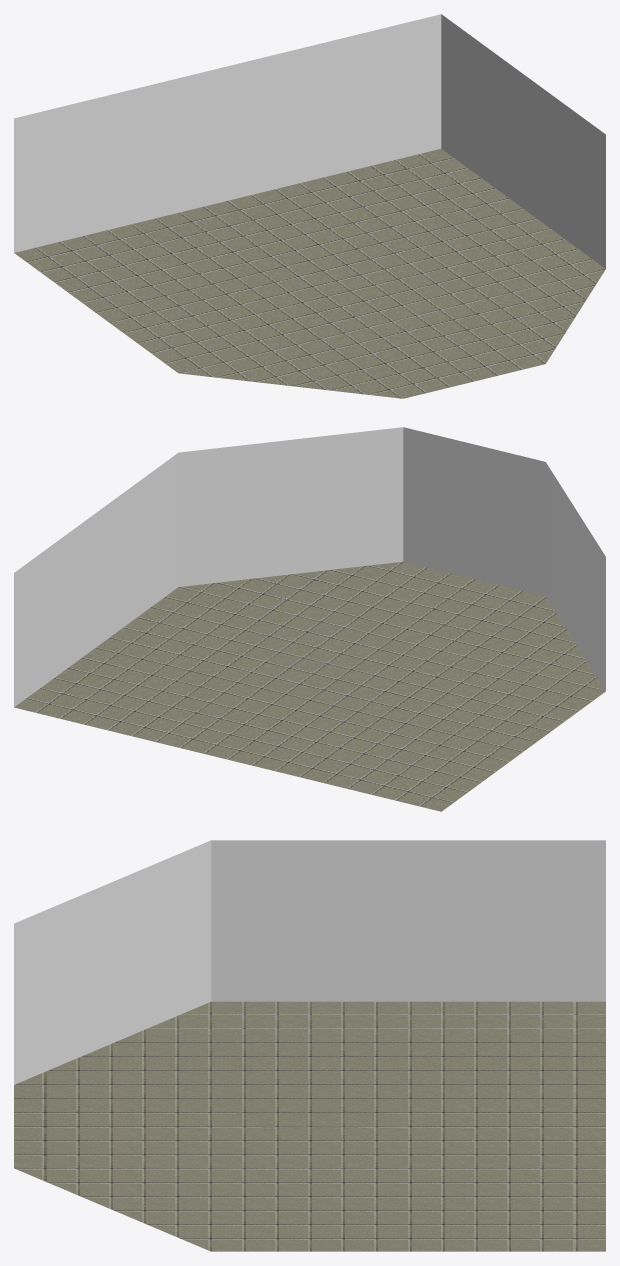
The model's file is training01.glb.
3 views of the same model, one above another, from view 1: azimuth 30°, elevation 25°; view 2: azimuth 150°, elevation 25°; view 3: azimuth 270°, elevation 25° (orthographic). The views are drawn at different scales.
Visible parts, largest first — view 1: Plane; view 2: Plane; view 3: Plane.
Part boxes in pixels (<box>): Plane: <box>14,14,605,398</box>; Plane: <box>14,427,605,811</box>; Plane: <box>14,840,605,1251</box>.
Size of what is drawn, in the model's own units: 10 by 3.01 by 10.
Materials: 2 (1 with a texture image).
